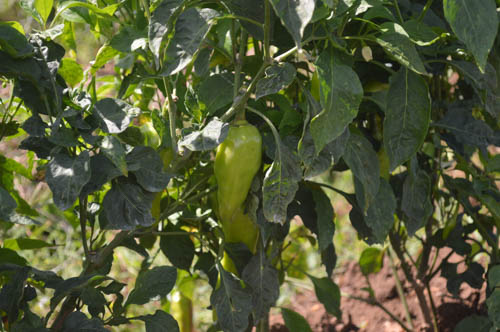ChiliPepper: (212, 126, 264, 221), (216, 205, 259, 271)
